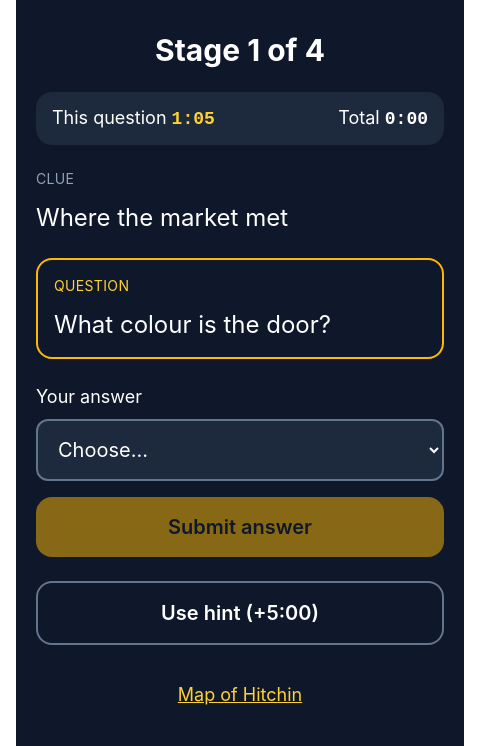
Test: Play › submits the chosen option with the stage and an attempt id
Select "Blue" in the dropdown at coordinates (240, 450), box top-left (36, 419), bottom-right (444, 481)
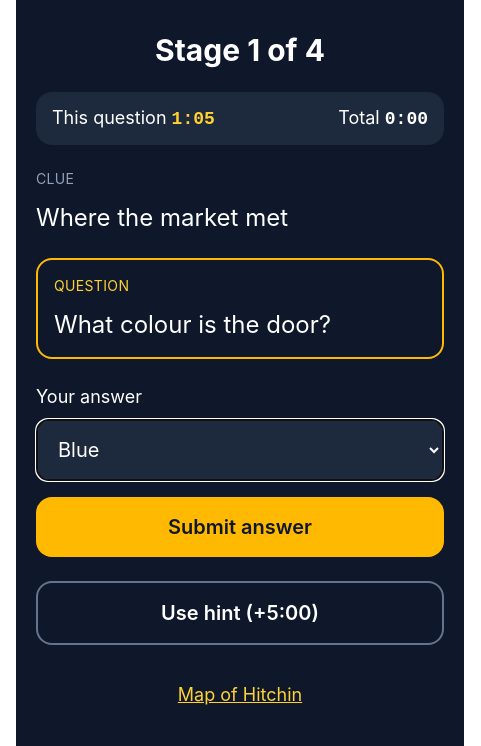
Click the button "Submit answer" at coordinates (240, 527), box top-left (36, 497), bottom-right (444, 557)
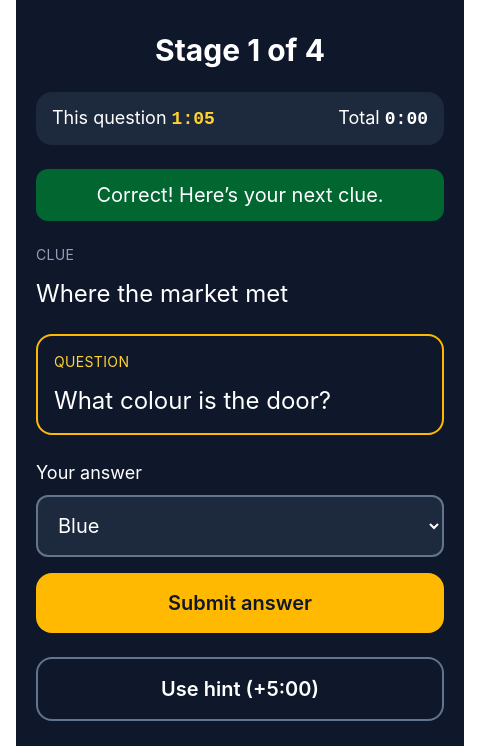
Expected: the message shows "Correct!", top-left (96, 183), bottom-right (384, 207)
